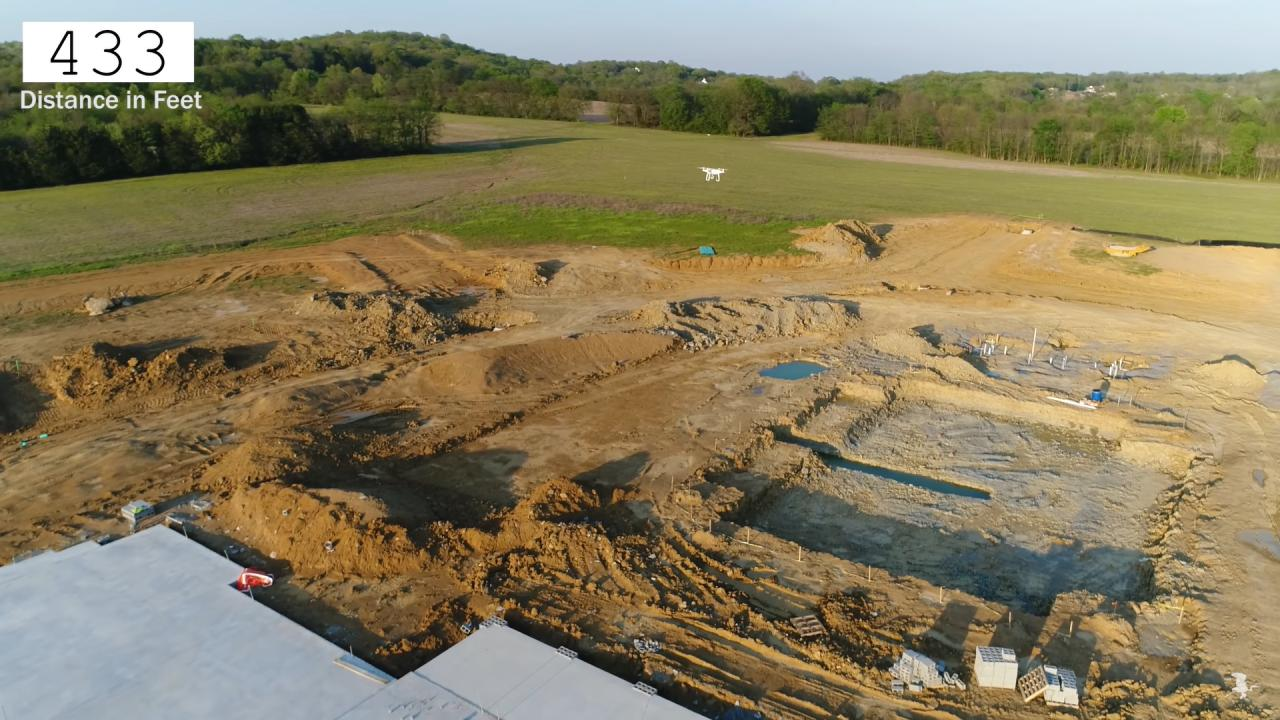Drone: (691, 158, 733, 192)
